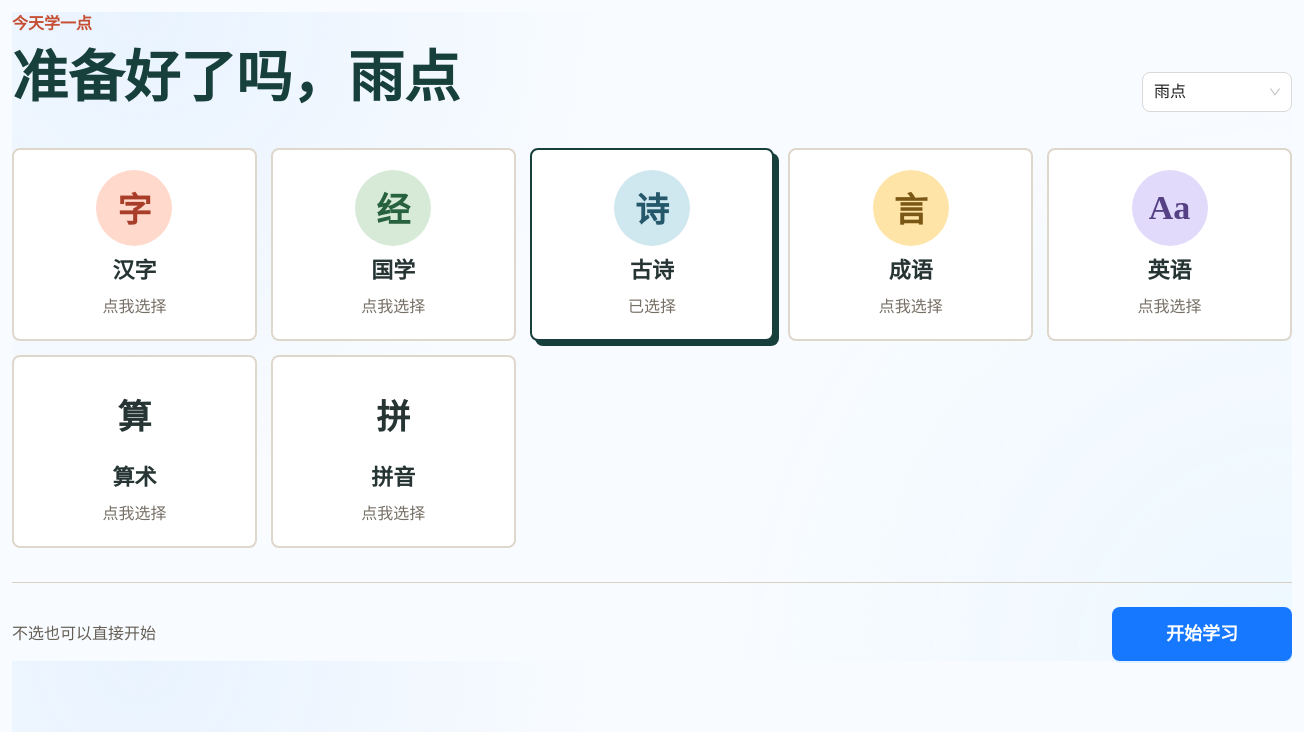
ChildLearning › annotates pinyin above characters for chinese cards
Expected: the heading "准备好了吗，雨点" is shown, [12, 44, 460, 112]
Click the button "开始学习": {"x": 1202, "y": 634} [1112, 607, 1292, 661]
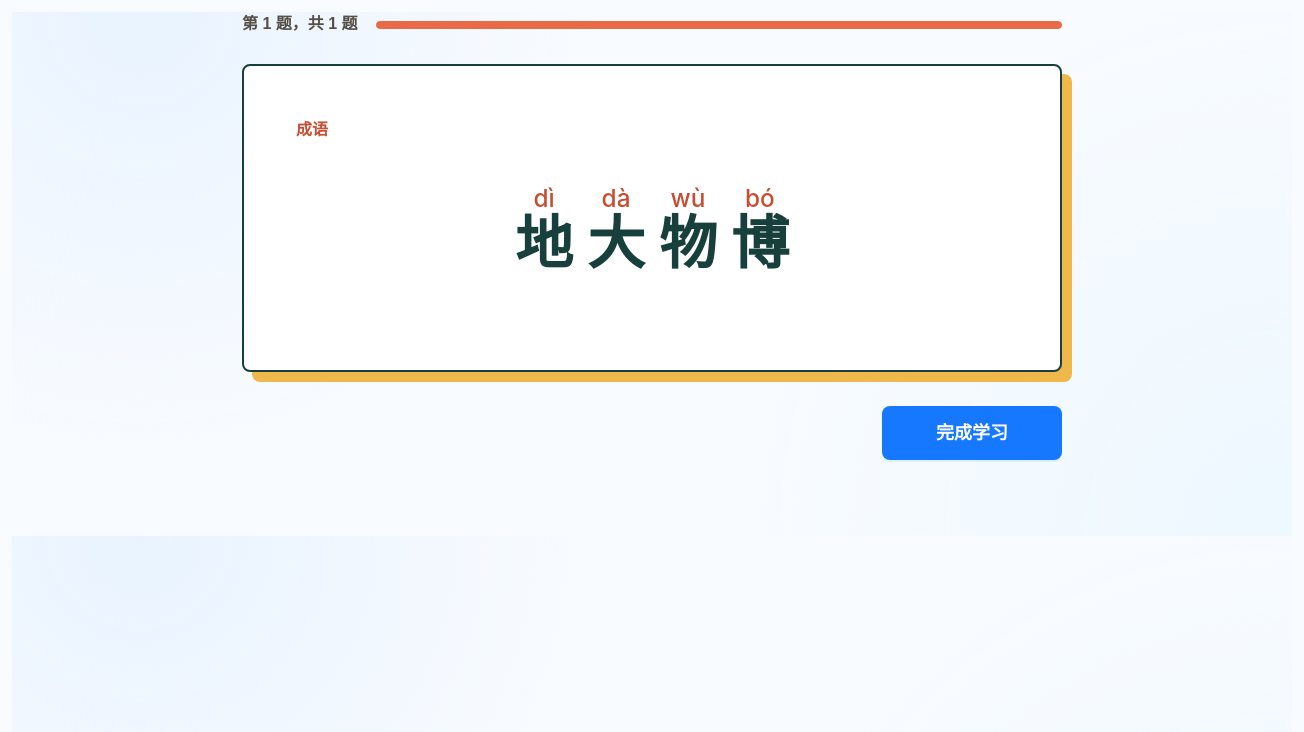
Expected: the text "地" is shown, [515, 212, 573, 276]
Expected: the text "dì" is shown, [534, 184, 555, 212]
Expected: the text "dà" is shown, [602, 184, 630, 212]
